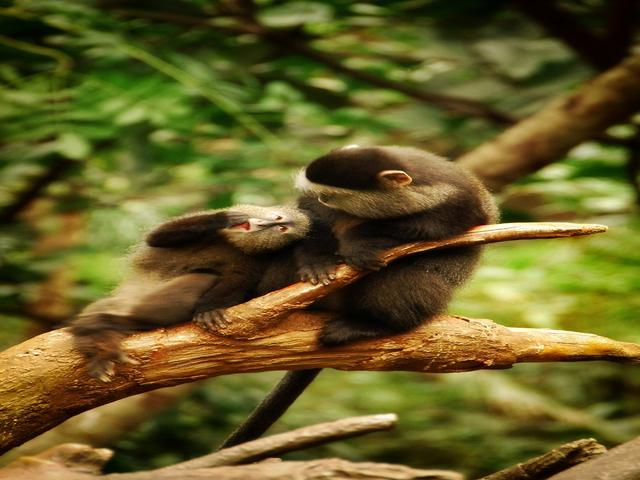monkey: (294, 96, 520, 405), (80, 170, 320, 333)
